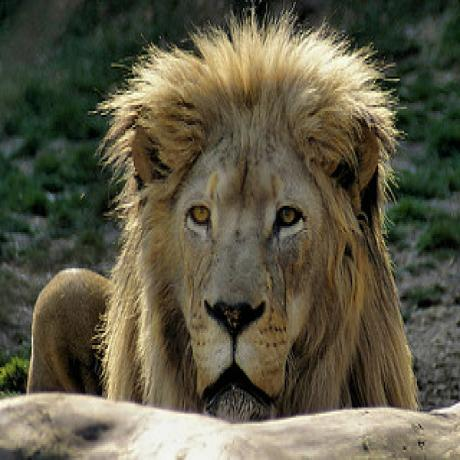Lion: (29, 6, 420, 424)
